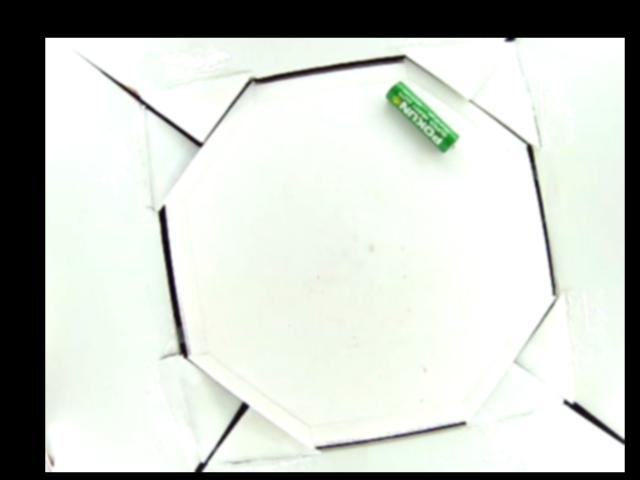Battery: (382, 80, 460, 152)
